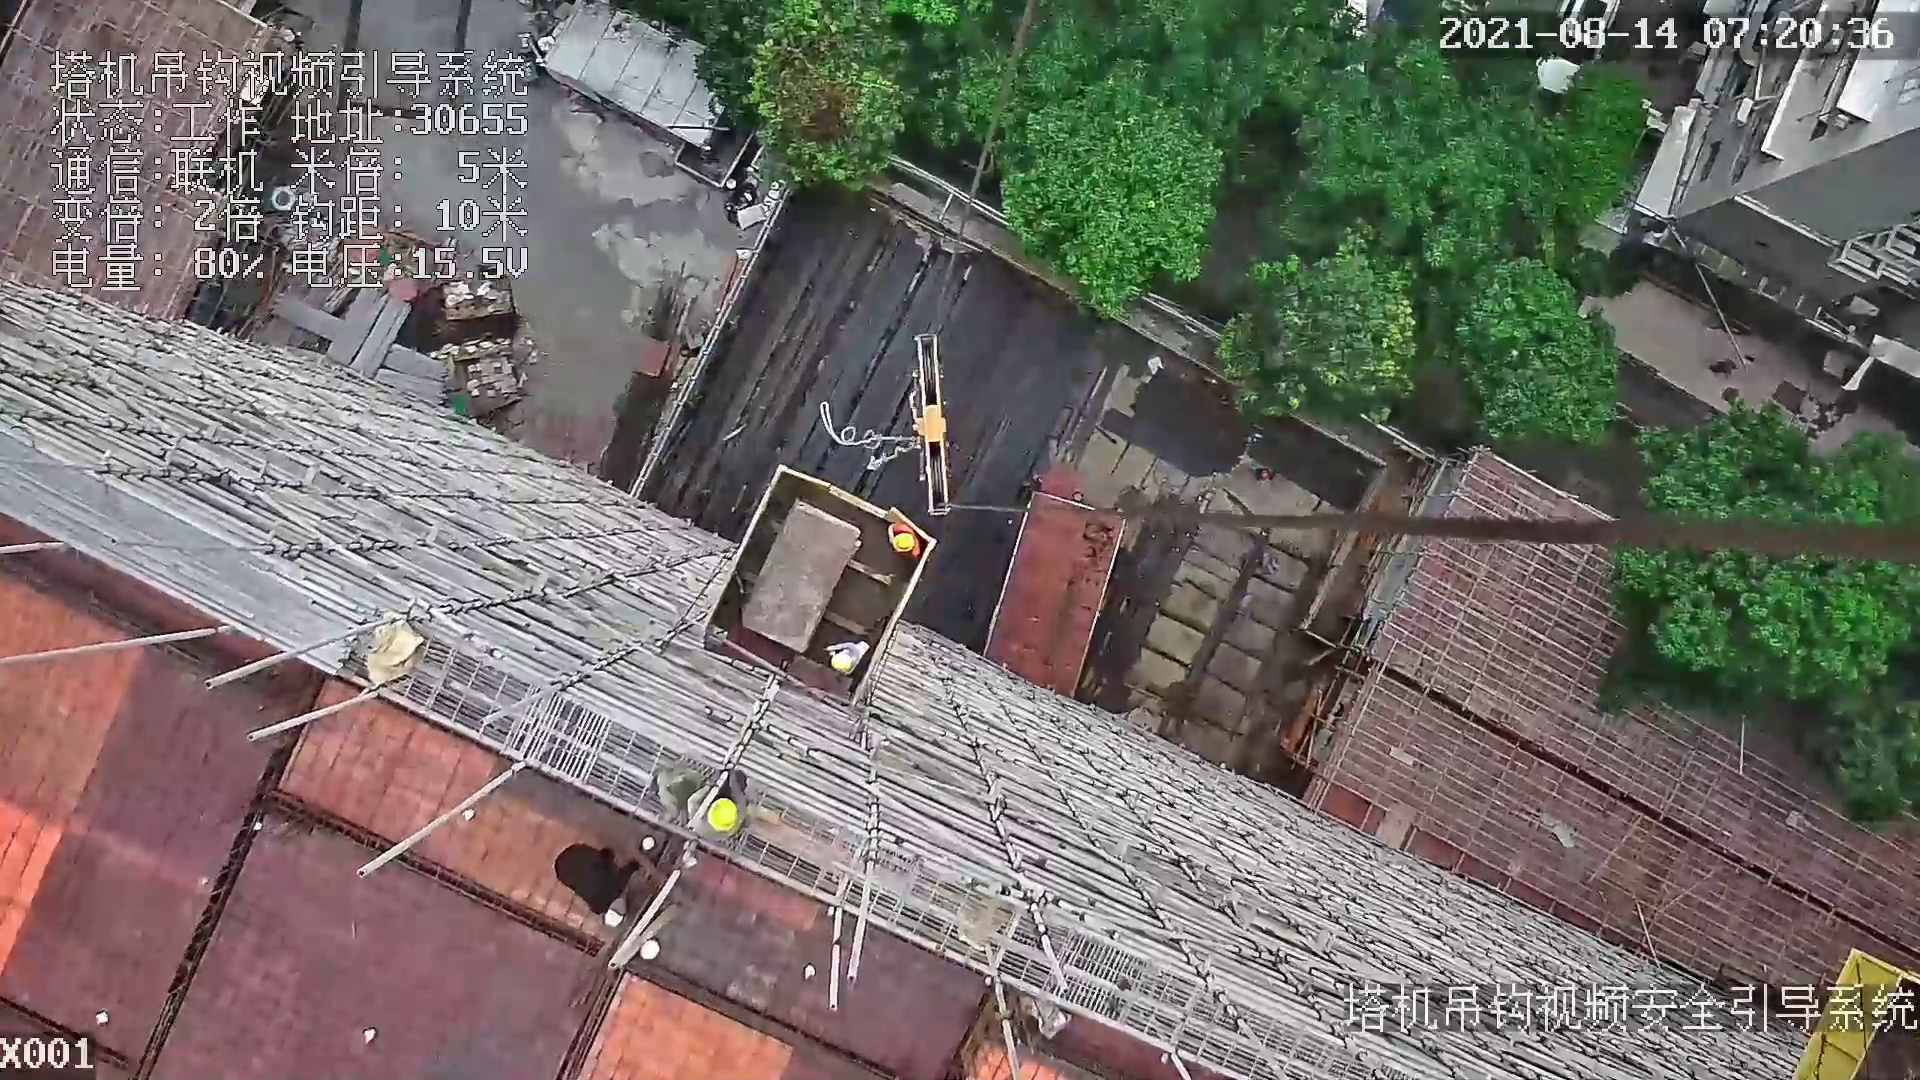helmet: (705, 799, 740, 835), (891, 529, 915, 554), (828, 652, 856, 673)
hook: (900, 332, 958, 518)
person: (692, 768, 753, 845), (891, 521, 926, 560), (826, 641, 868, 673)
